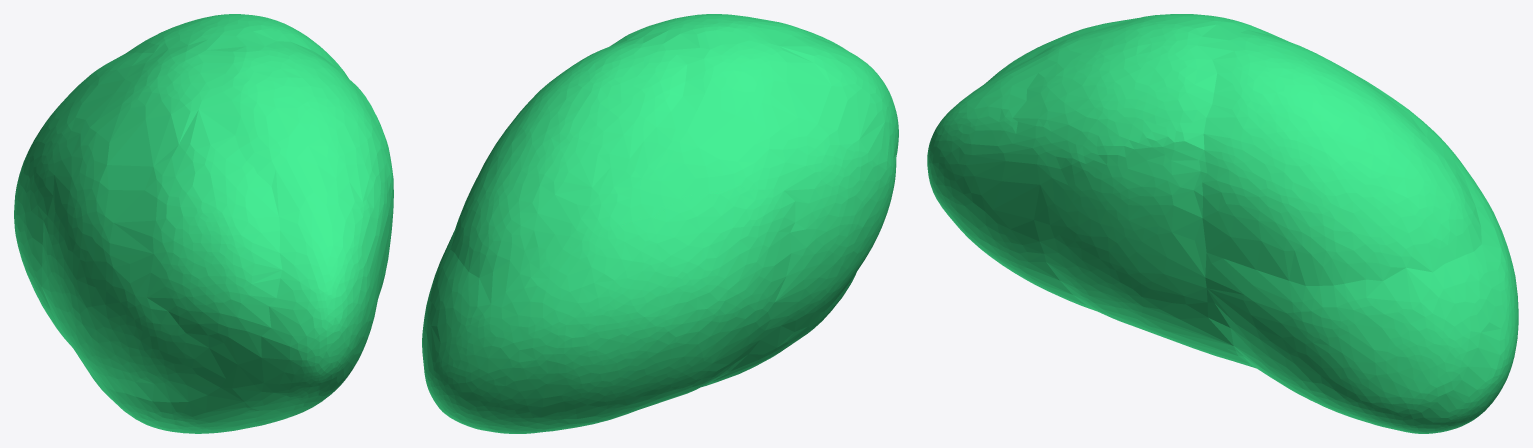
Rendered from Right_thalamus2.obj.
3 views of the same model, side by side, from view 1: azimuth 30°, elevation 25°; view 2: azimuth 150°, elevation 25°; view 3: azimuth 270°, elevation 25° (orthographic). The views are drawn at different scales.
Parts seen in each view (by area): view 1: obj0; view 2: obj0; view 3: obj0.
Part boxes in pixels (x1,y1,x2,y2): obj0: (14,14,393,433); obj0: (422,14,898,433); obj0: (927,14,1518,433).
Size of the model in its own units: 11.21 by 11.31 by 17.45.
1 material, 1 textured.
